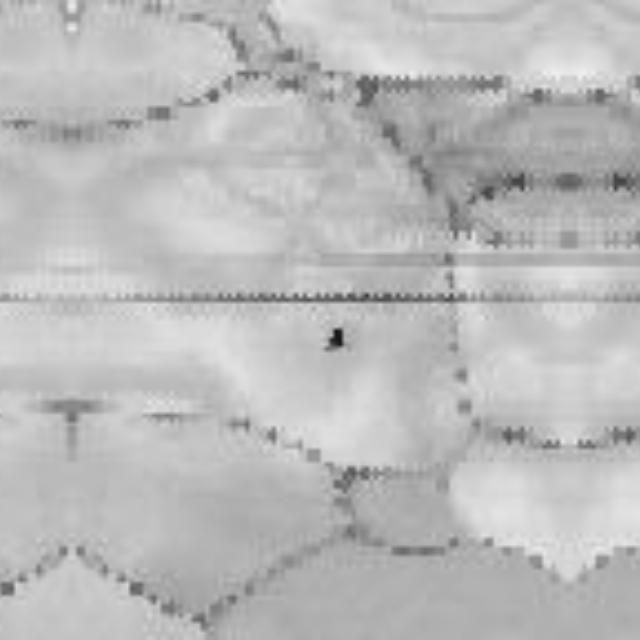good_void: (322, 324, 350, 354)
